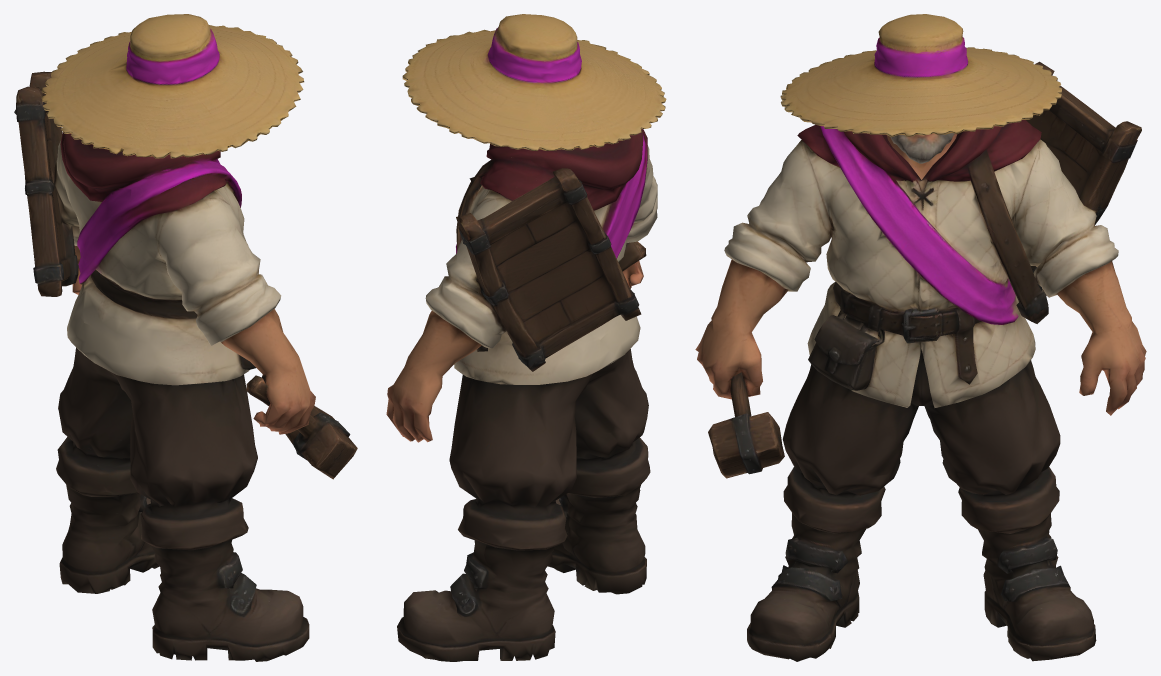
File: model_tripo_h31.glb
3 views of the same model, side by side, from view 1: azimuth 30°, elevation 25°; view 2: azimuth 150°, elevation 25°; view 3: azimuth 270°, elevation 25° (orthographic). The views are drawn at different scales.
Visible parts, largest first — view 1: tripo_node_58c1357b-0652-4a16-b44d-480b40330ad7; view 2: tripo_node_58c1357b-0652-4a16-b44d-480b40330ad7; view 3: tripo_node_58c1357b-0652-4a16-b44d-480b40330ad7.
Boxes of the visible parts, box(x1,y1,x2,y2) form: tripo_node_58c1357b-0652-4a16-b44d-480b40330ad7: box(14, 14, 357, 661); tripo_node_58c1357b-0652-4a16-b44d-480b40330ad7: box(386, 14, 666, 661); tripo_node_58c1357b-0652-4a16-b44d-480b40330ad7: box(695, 14, 1146, 661).
Size of the model in its own units: 0.4181 by 1 by 0.6696.
1 material, 1 textured.
